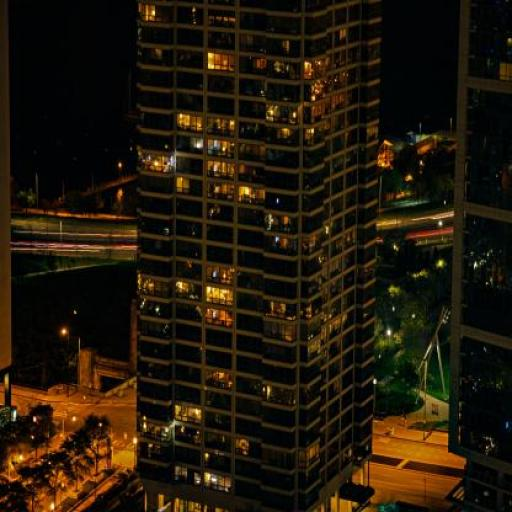street light: (62, 416, 76, 476), (8, 456, 24, 496), (100, 423, 113, 468), (62, 330, 70, 399), (374, 379, 377, 415), (133, 438, 136, 469), (439, 222, 442, 244), (388, 330, 390, 361), (119, 164, 122, 183)
